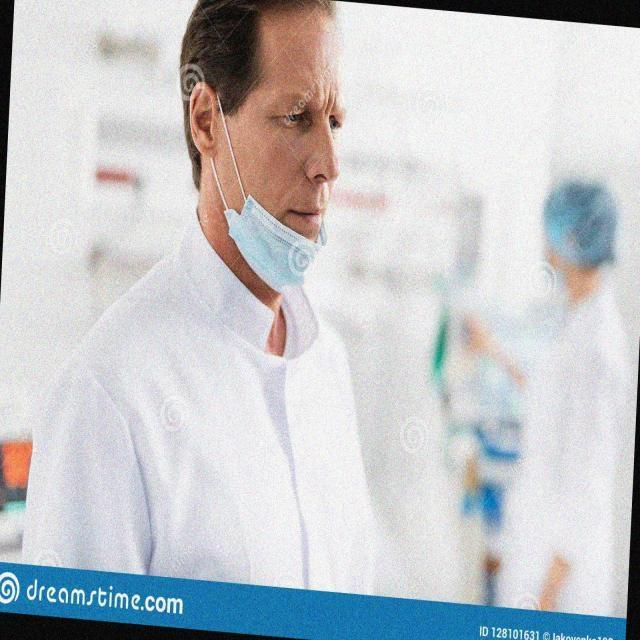hairnet: (175, 0, 345, 283)
